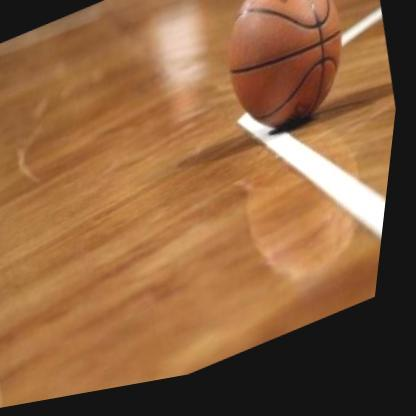basketball: (207, 0, 373, 163)
